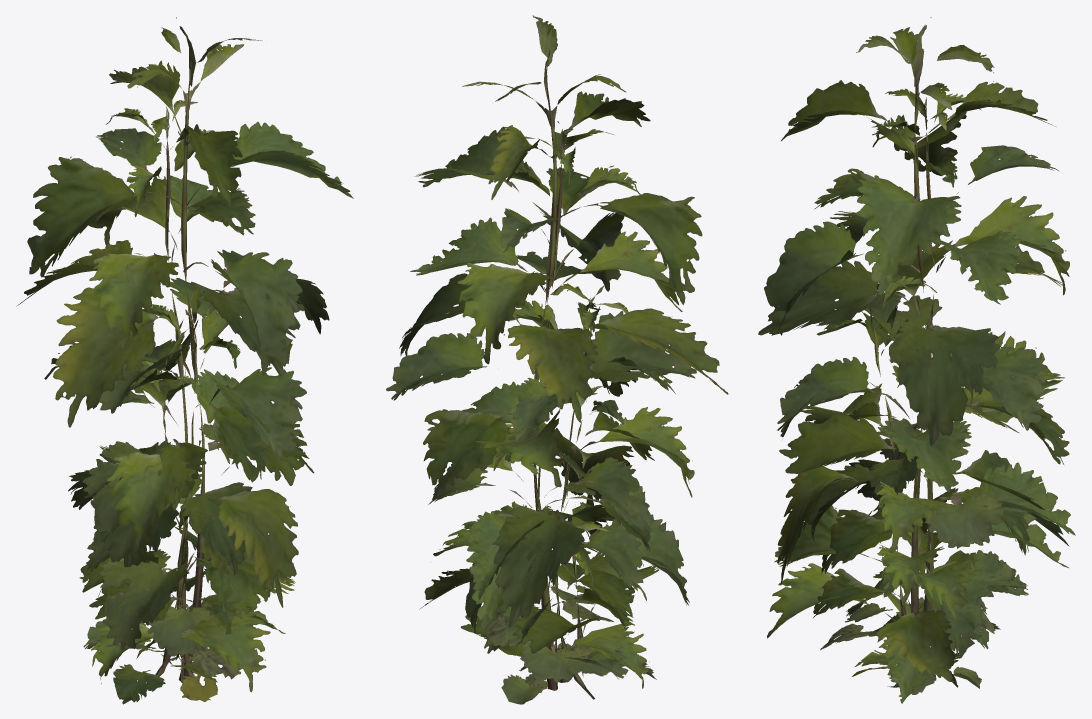
The model's file is nettle-plant.glb.
The picture shows the model from 3 angles, left to right: view 1: azimuth 30°, elevation 25°; view 2: azimuth 150°, elevation 25°; view 3: azimuth 270°, elevation 25°; orthographic projection. The views are drawn at different scales.
Parts seen in each view (by area): view 1: nettle_plant_tall_a_LOD0, nettle_plant_medium_a_LOD0, nettle_plant_tall_b_LOD0, nettle_plant_medium_b_LOD0, nettle_plant_small_a_LOD0, nettle_plant_small_b_LOD0; view 2: nettle_plant_tall_a_LOD0, nettle_plant_tall_b_LOD0, nettle_plant_medium_a_LOD0, nettle_plant_medium_b_LOD0, nettle_plant_small_a_LOD0, nettle_plant_small_b_LOD0; view 3: nettle_plant_tall_a_LOD0, nettle_plant_tall_b_LOD0, nettle_plant_medium_a_LOD0, nettle_plant_medium_b_LOD0, nettle_plant_small_a_LOD0, nettle_plant_small_b_LOD0.
Boxes of the visible parts, x1,y1,x2,y2 form: nettle_plant_tall_a_LOD0: (27,17,353,682); nettle_plant_medium_a_LOD0: (68,287,298,704); nettle_plant_tall_b_LOD0: (16,94,307,677); nettle_plant_medium_b_LOD0: (87,376,257,676); nettle_plant_small_a_LOD0: (91,503,285,701); nettle_plant_small_b_LOD0: (83,594,217,682); nettle_plant_tall_a_LOD0: (399,15,728,690); nettle_plant_tall_b_LOD0: (386,121,696,682); nettle_plant_medium_a_LOD0: (427,283,694,679); nettle_plant_medium_b_LOD0: (465,385,654,699); nettle_plant_small_a_LOD0: (471,505,649,692); nettle_plant_small_b_LOD0: (460,610,628,704); nettle_plant_tall_a_LOD0: (764,17,1069,681); nettle_plant_tall_b_LOD0: (758,88,1075,687); nettle_plant_medium_a_LOD0: (767,276,1069,694); nettle_plant_medium_b_LOD0: (807,359,1029,617); nettle_plant_small_a_LOD0: (846,500,989,703); nettle_plant_small_b_LOD0: (855,597,981,688).
Size of the model in its own units: 0.1036 by 0.2156 by 0.0927.
Materials: 6 (6 with a texture image).
